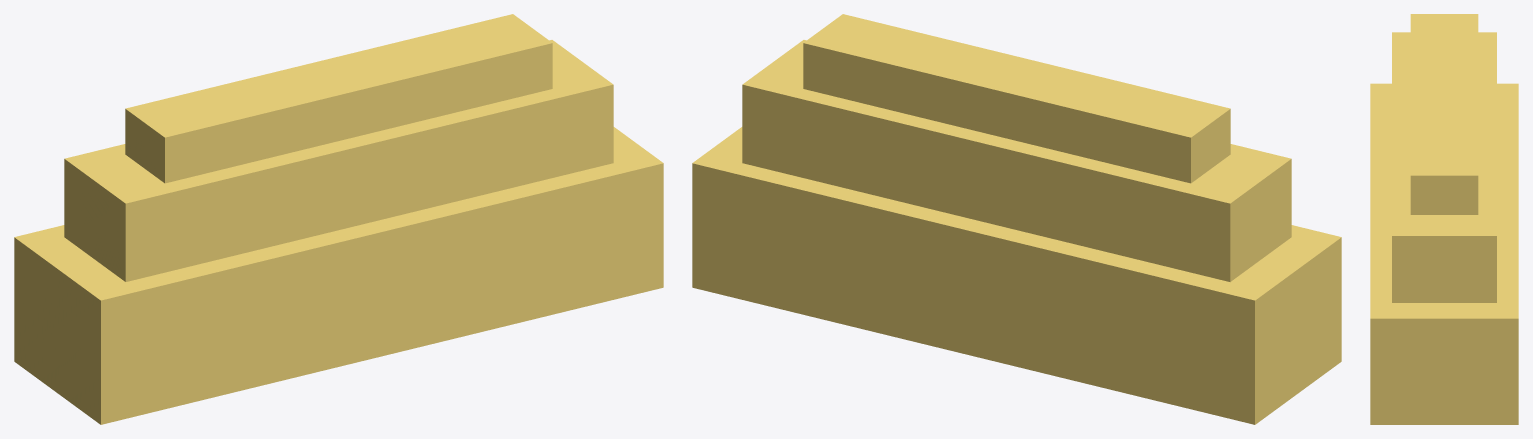
The model's file is furniture_water_barrier.glb.
3 views of the same model, side by side, from view 1: azimuth 30°, elevation 25°; view 2: azimuth 150°, elevation 25°; view 3: azimuth 270°, elevation 25° (orthographic). The views are drawn at different scales.
Parts seen in each view (by area): view 1: base, mid, top; view 2: base, mid, top; view 3: base, mid, top.
Part boxes in pixels (bbox=[...]): base: bbox=[14, 127, 663, 424]; mid: bbox=[64, 40, 613, 281]; top: bbox=[125, 14, 552, 183]; base: bbox=[692, 127, 1341, 424]; mid: bbox=[742, 40, 1291, 281]; top: bbox=[803, 14, 1230, 183]; base: bbox=[1370, 83, 1518, 424]; mid: bbox=[1392, 32, 1496, 302]; top: bbox=[1410, 14, 1478, 214].
Size of the model in its own units: 1.8 by 0.76 by 0.48.
